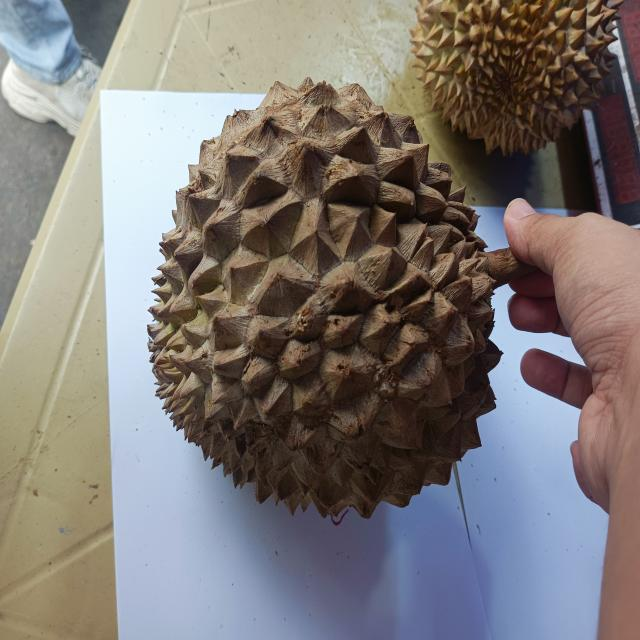mature: (148, 78, 519, 517), (410, 0, 623, 153), (416, 1, 624, 156)
